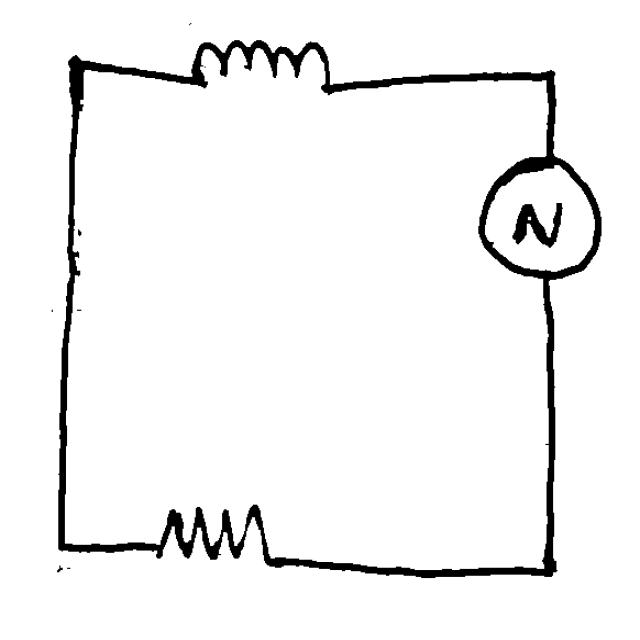ac: (473, 149, 609, 287)
inductor: (169, 18, 357, 118)
resistor: (137, 488, 290, 584)
